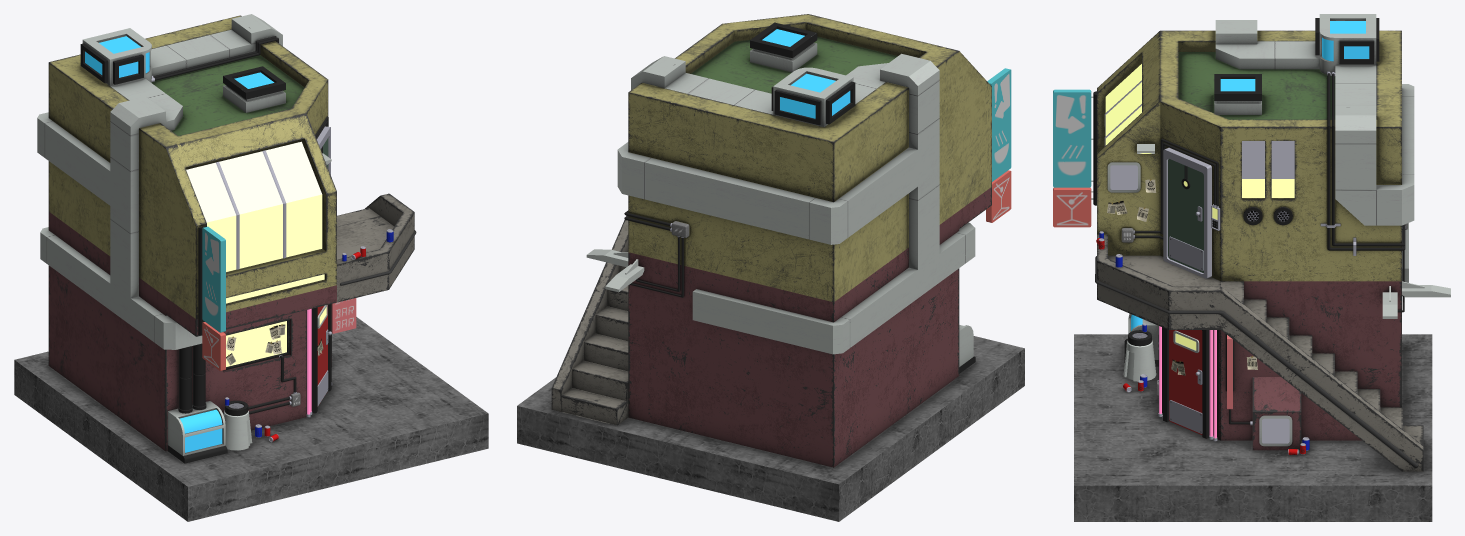
Rendered from home.glb.
The picture shows the model from 3 angles, left to right: view 1: azimuth 30°, elevation 25°; view 2: azimuth 150°, elevation 25°; view 3: azimuth 270°, elevation 25°; orthographic projection. The views are drawn at different scales.
Parts seen in each view (by area): view 1: pPlane9, polySurface23, polySurface5, polySurface13, polySurface18, polySurface9, pCube10, polySurface98, polySurface70, polySurface81, polySurface16, pCube6 (+13 smaller); view 2: polySurface23, polySurface5, polySurface13, pPlane9, pCube86, polySurface9, pCube10, polySurface70, pCube6, pCube5, pCube11, polySurface76 (+2 smaller); view 3: polySurface23, pPlane9, polySurface5, polySurface9, polySurface13, pCube10, pCube86, polySurface86, pCube7, polySurface91, polySurface85, pCylinder17 (+19 smaller).
Boxes of the visible parts, x1=… form: pPlane9: x1=14, y1=317, x2=488, y2=521; polySurface23: x1=48, y1=15, x2=336, y2=319; polySurface5: x1=48, y1=212, x2=336, y2=451; polySurface13: x1=37, y1=14, x2=282, y2=349; polySurface18: x1=186, y1=141, x2=322, y2=271; polySurface9: x1=337, y1=193, x2=414, y2=302; pCube10: x1=202, y1=226, x2=225, y2=332; polySurface98: x1=226, y1=321, x2=286, y2=366; polySurface70: x1=82, y1=28, x2=151, y2=85; polySurface81: x1=167, y1=401, x2=225, y2=455; polySurface16: x1=311, y1=304, x2=331, y2=413; pCube6: x1=223, y1=66, x2=285, y2=99; polySurface23: x1=628, y1=14, x2=991, y2=302; polySurface5: x1=628, y1=187, x2=991, y2=467; polySurface13: x1=617, y1=53, x2=975, y2=354; pPlane9: x1=517, y1=336, x2=1024, y2=521; pCube86: x1=561, y1=265, x2=628, y2=424; polySurface9: x1=551, y1=215, x2=628, y2=425; pCube10: x1=987, y1=68, x2=1011, y2=181; polySurface70: x1=773, y1=67, x2=853, y2=126; pCube6: x1=750, y1=22, x2=817, y2=58; pCube5: x1=750, y1=43, x2=817, y2=72; pCube11: x1=986, y1=170, x2=1011, y2=222; polySurface76: x1=774, y1=90, x2=821, y2=125; polySurface23: x1=1097, y1=30, x2=1401, y2=281; pPlane9: x1=1074, y1=334, x2=1432, y2=521; polySurface5: x1=1162, y1=281, x2=1401, y2=440; polySurface9: x1=1097, y1=234, x2=1423, y2=471; polySurface13: x1=1215, y1=20, x2=1414, y2=296; pCube10: x1=1053, y1=89, x2=1091, y2=187; pCube86: x1=1221, y1=281, x2=1423, y2=445; polySurface86: x1=1168, y1=159, x2=1203, y2=272; pCube7: x1=1252, y1=377, x2=1301, y2=450; polySurface91: x1=1169, y1=330, x2=1202, y2=434; polySurface85: x1=1163, y1=147, x2=1211, y2=278; pCylinder17: x1=1095, y1=256, x2=1418, y2=468.
Size of the model in its own units: 15.75 by 18.28 by 17.48.
Materials: 7 (7 with a texture image).
